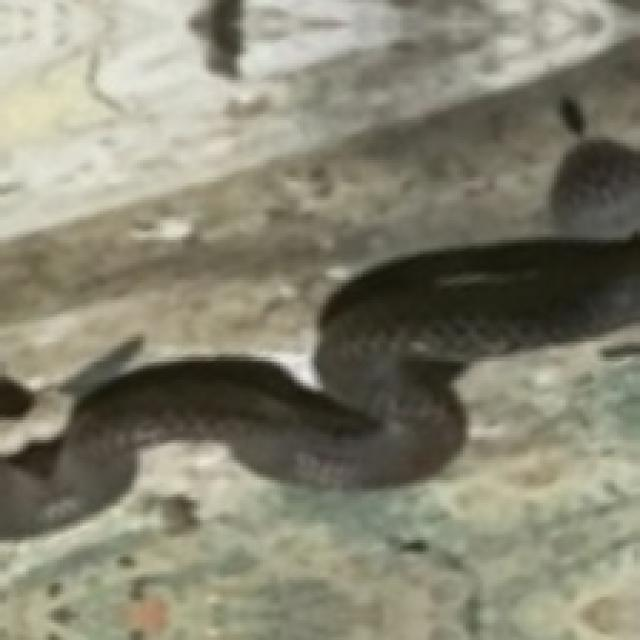gervais worm snake: (0, 234, 637, 537), (0, 237, 637, 537)
